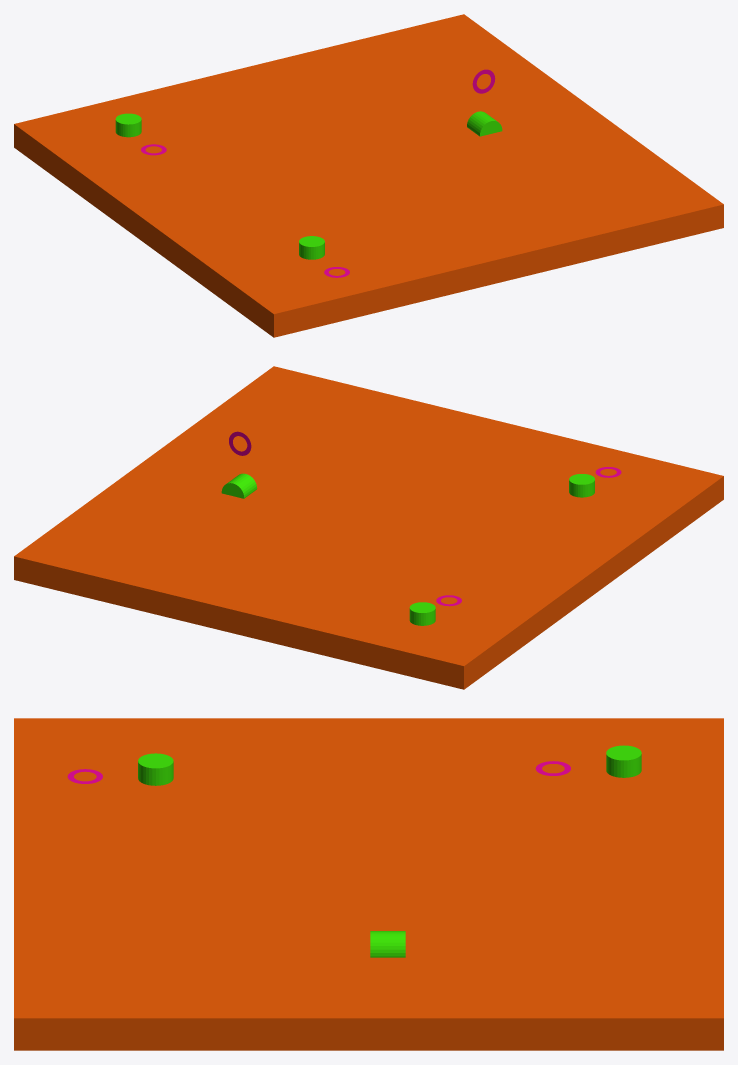
Rendered from riskmap.fbx.
3 views of the same model, one above another, from view 1: azimuth 30°, elevation 25°; view 2: azimuth 150°, elevation 25°; view 3: azimuth 270°, elevation 25° (orthographic). The views are drawn at different scales.
Visible parts, largest first — view 1: floor, norway, sweden, denmark, base.003, base.001, base.002; view 2: floor, norway, sweden, denmark, base.003, base.001, base.002; view 3: floor, norway, sweden, denmark, base.001, base.002, base.003.
Boxes of the visible parts, x1=… form: floor: x1=14, y1=14, x2=723, y2=337; norway: x1=195, y1=204, x2=723, y2=313; sweden: x1=357, y1=74, x2=688, y2=190; denmark: x1=14, y1=77, x2=309, y2=197; base.003: x1=467, y1=111, x2=502, y2=136; base.001: x1=115, y1=113, x2=141, y2=137; base.002: x1=299, y1=236, x2=324, y2=259; floor: x1=14, y1=366, x2=723, y2=689; norway: x1=274, y1=366, x2=723, y2=533; sweden: x1=96, y1=392, x2=384, y2=541; denmark: x1=272, y1=545, x2=564, y2=665; base.003: x1=221, y1=473, x2=257, y2=498; base.001: x1=409, y1=602, x2=435, y2=625; base.002: x1=569, y1=474, x2=594, y2=497; floor: x1=14, y1=718, x2=723, y2=1050; norway: x1=14, y1=718, x2=232, y2=1017; sweden: x1=109, y1=888, x2=499, y2=1018; denmark: x1=448, y1=718, x2=723, y2=848; base.001: x1=606, y1=745, x2=641, y2=777; base.002: x1=138, y1=753, x2=173, y2=785; base.003: x1=370, y1=931, x2=405, y2=957.
Size of the model in its own units: 4000 by 705 by 4000.
